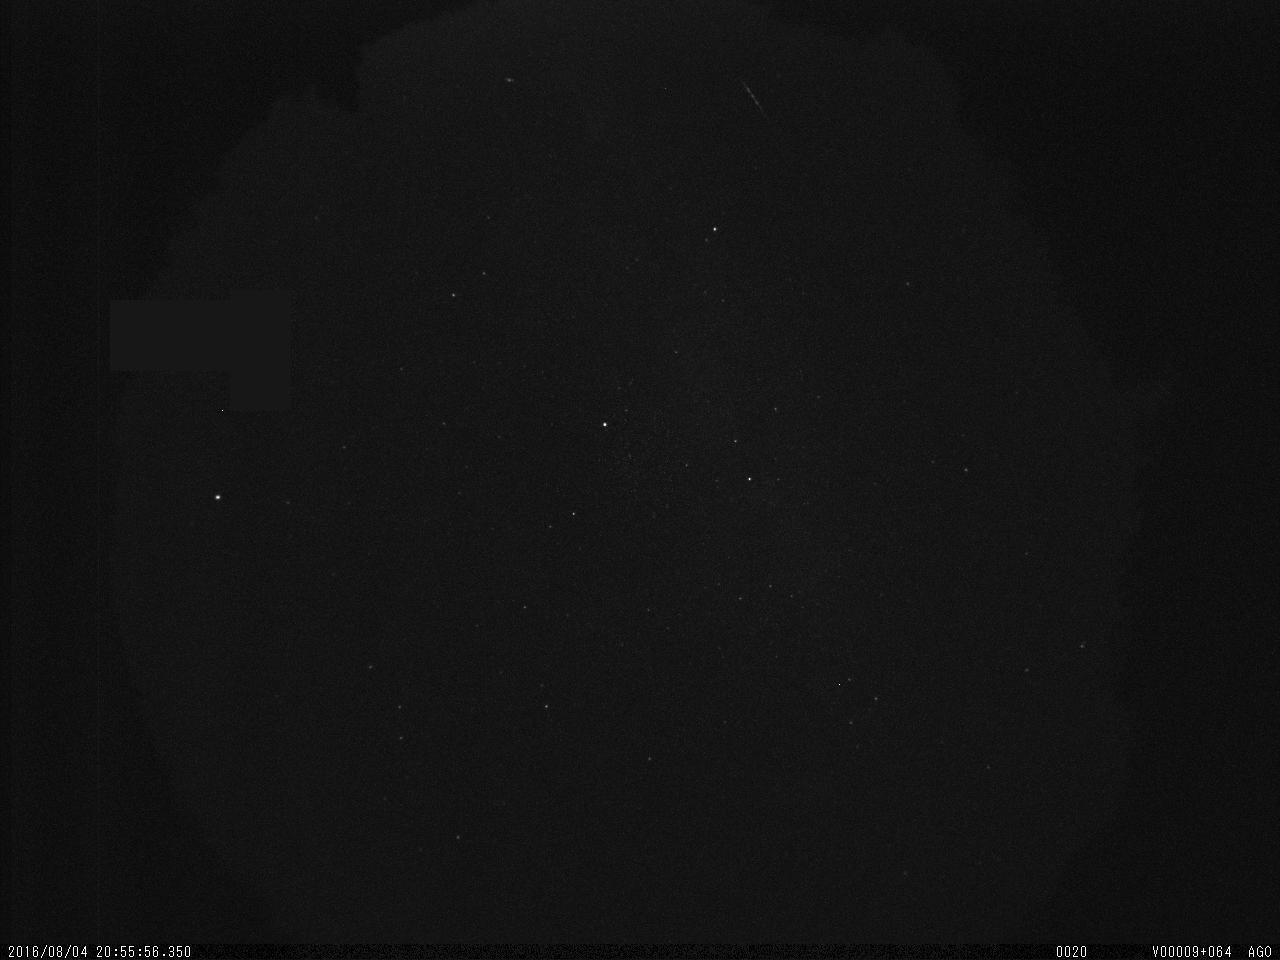meteor: (726, 68, 786, 133)
